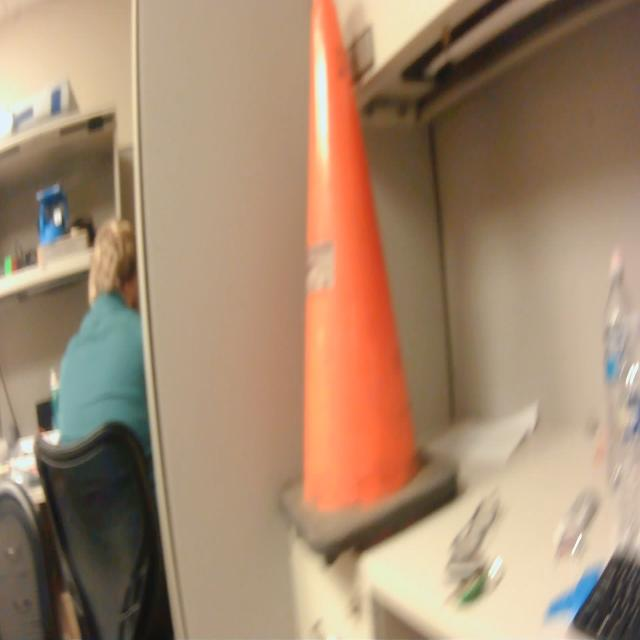traffic cone: (273, 1, 467, 580)
